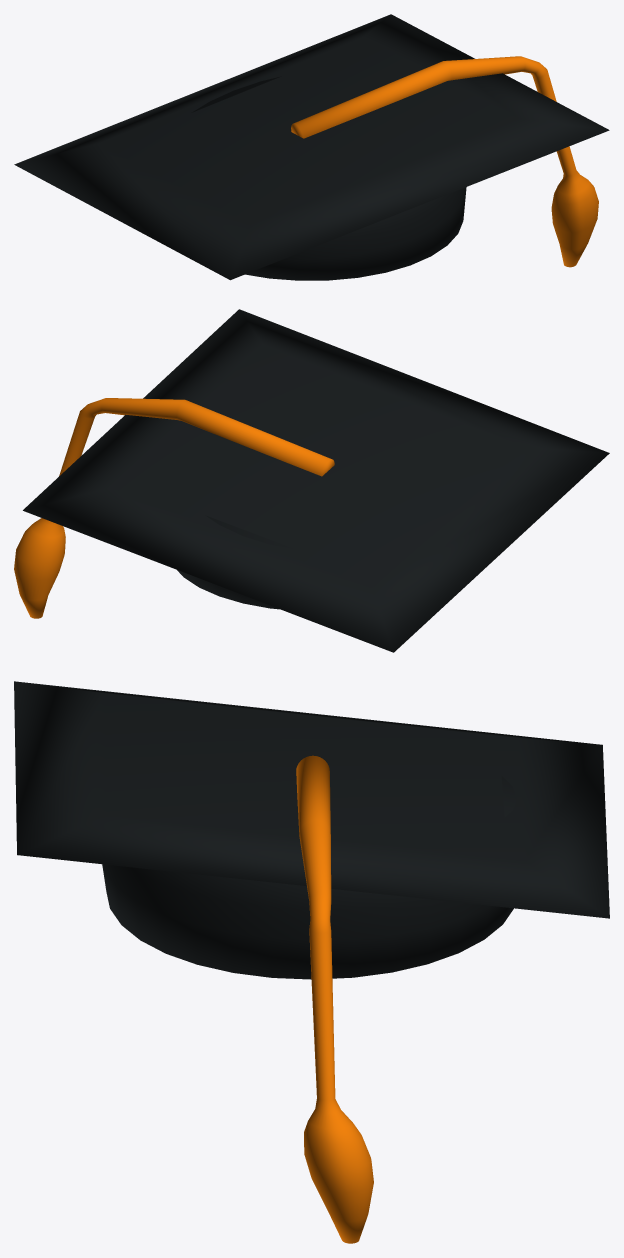
The model's file is teacher.fbx.
The picture shows the model from 3 angles, top to bottom: view 1: azimuth 30°, elevation 25°; view 2: azimuth 150°, elevation 25°; view 3: azimuth 270°, elevation 25°; orthographic projection. The views are drawn at different scales.
Parts seen in each view (by area): view 1: Cylinder.001; view 2: Cylinder.001; view 3: Cylinder.001.
Part boxes in pixels (x1,y1,x2,y2): Cylinder.001: (14, 14, 609, 280); Cylinder.001: (14, 309, 609, 652); Cylinder.001: (14, 681, 609, 1243).
Size of the model in its own units: 1.4 by 0.6785 by 1.11.
